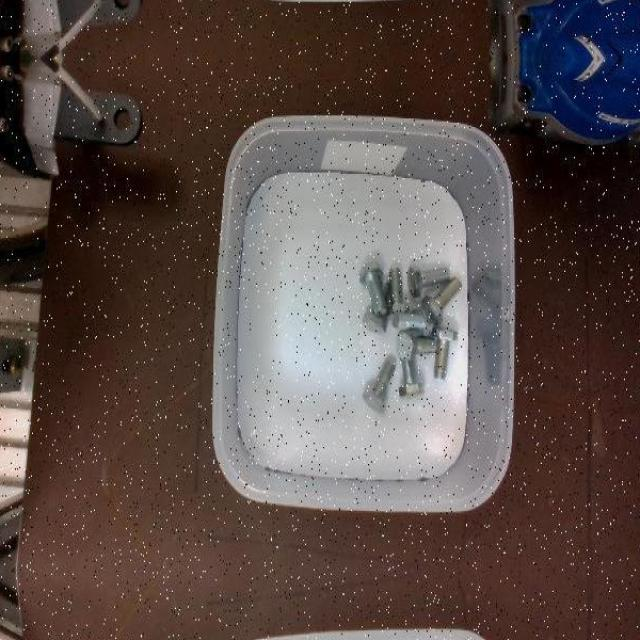screw: (362, 358, 396, 412), (359, 262, 386, 316), (432, 325, 459, 378), (406, 265, 449, 297), (395, 327, 436, 359), (393, 307, 434, 337)
